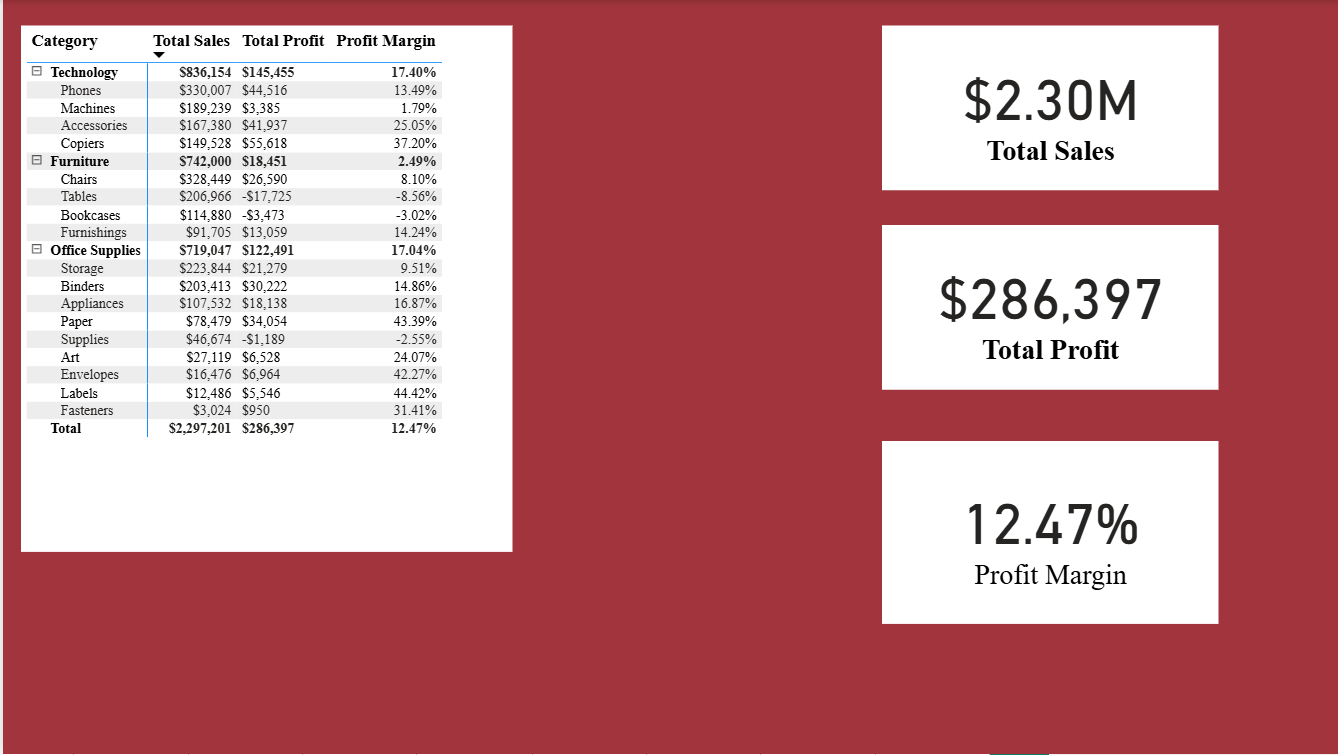

What the dashboard file says about the page in this screenshot:
{"tool":"powerbi","page":{"name":"Page 5","canvas":[1280,720],"ordinal":4},"visuals":[{"type":"pivotTable","fields":{"Rows":["Superstore sales dataset.Category","Superstore sales dataset.Sub-Category"],"Values":["Superstore sales dataset.Total Sales","Superstore sales dataset.Total Profit","Superstore sales dataset.Profit Margin"]},"box":[17.5,23.9,469.2,502.6],"z":0},{"type":"card","fields":{"Values":["Superstore sales dataset.Total Sales"]},"box":[839.8,23.9,321.3,157.5],"z":1000},{"type":"card","fields":{"Values":["Superstore sales dataset.Total Profit"]},"box":[839.8,214.7,321.3,157.5],"z":2000},{"type":"card","fields":{"Values":["Superstore sales dataset.Profit Margin"]},"box":[839.8,421.5,321.3,175],"z":3000}]}

Visuals, with their boxes in screenshot pixels (x1, y1, x2, y2), scaled from the page's 1280x720 canvas onto the 1338x755 screenshot:
pivotTable - Superstore sales dataset.Category x Superstore sales dataset.Sub-Category: region(18, 25, 509, 552)
card - Superstore sales dataset.Total Sales: region(878, 25, 1214, 190)
card - Superstore sales dataset.Total Profit: region(878, 225, 1214, 390)
card - Superstore sales dataset.Profit Margin: region(878, 442, 1214, 625)
